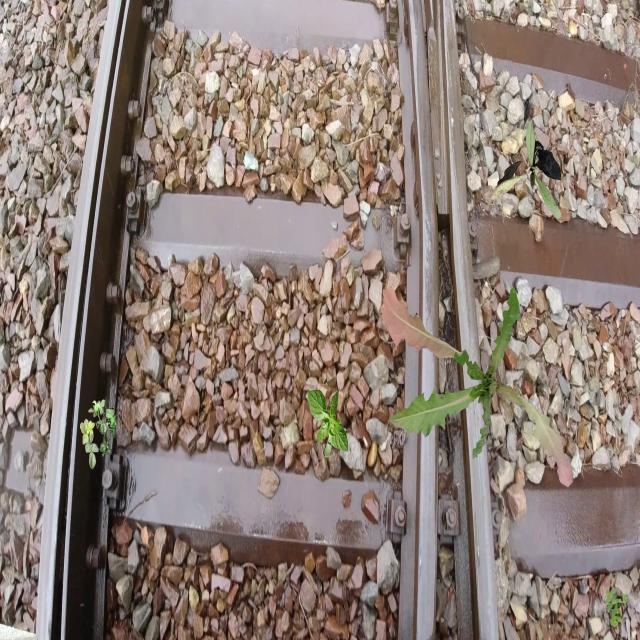Plant: (381, 285, 574, 488), (490, 120, 562, 220), (307, 387, 348, 458), (80, 396, 118, 469), (604, 587, 628, 628)
